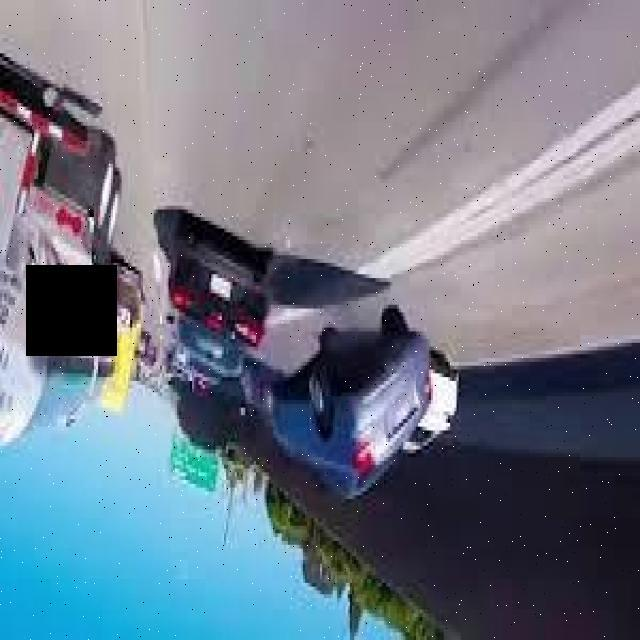severe: (264, 280, 436, 505)
